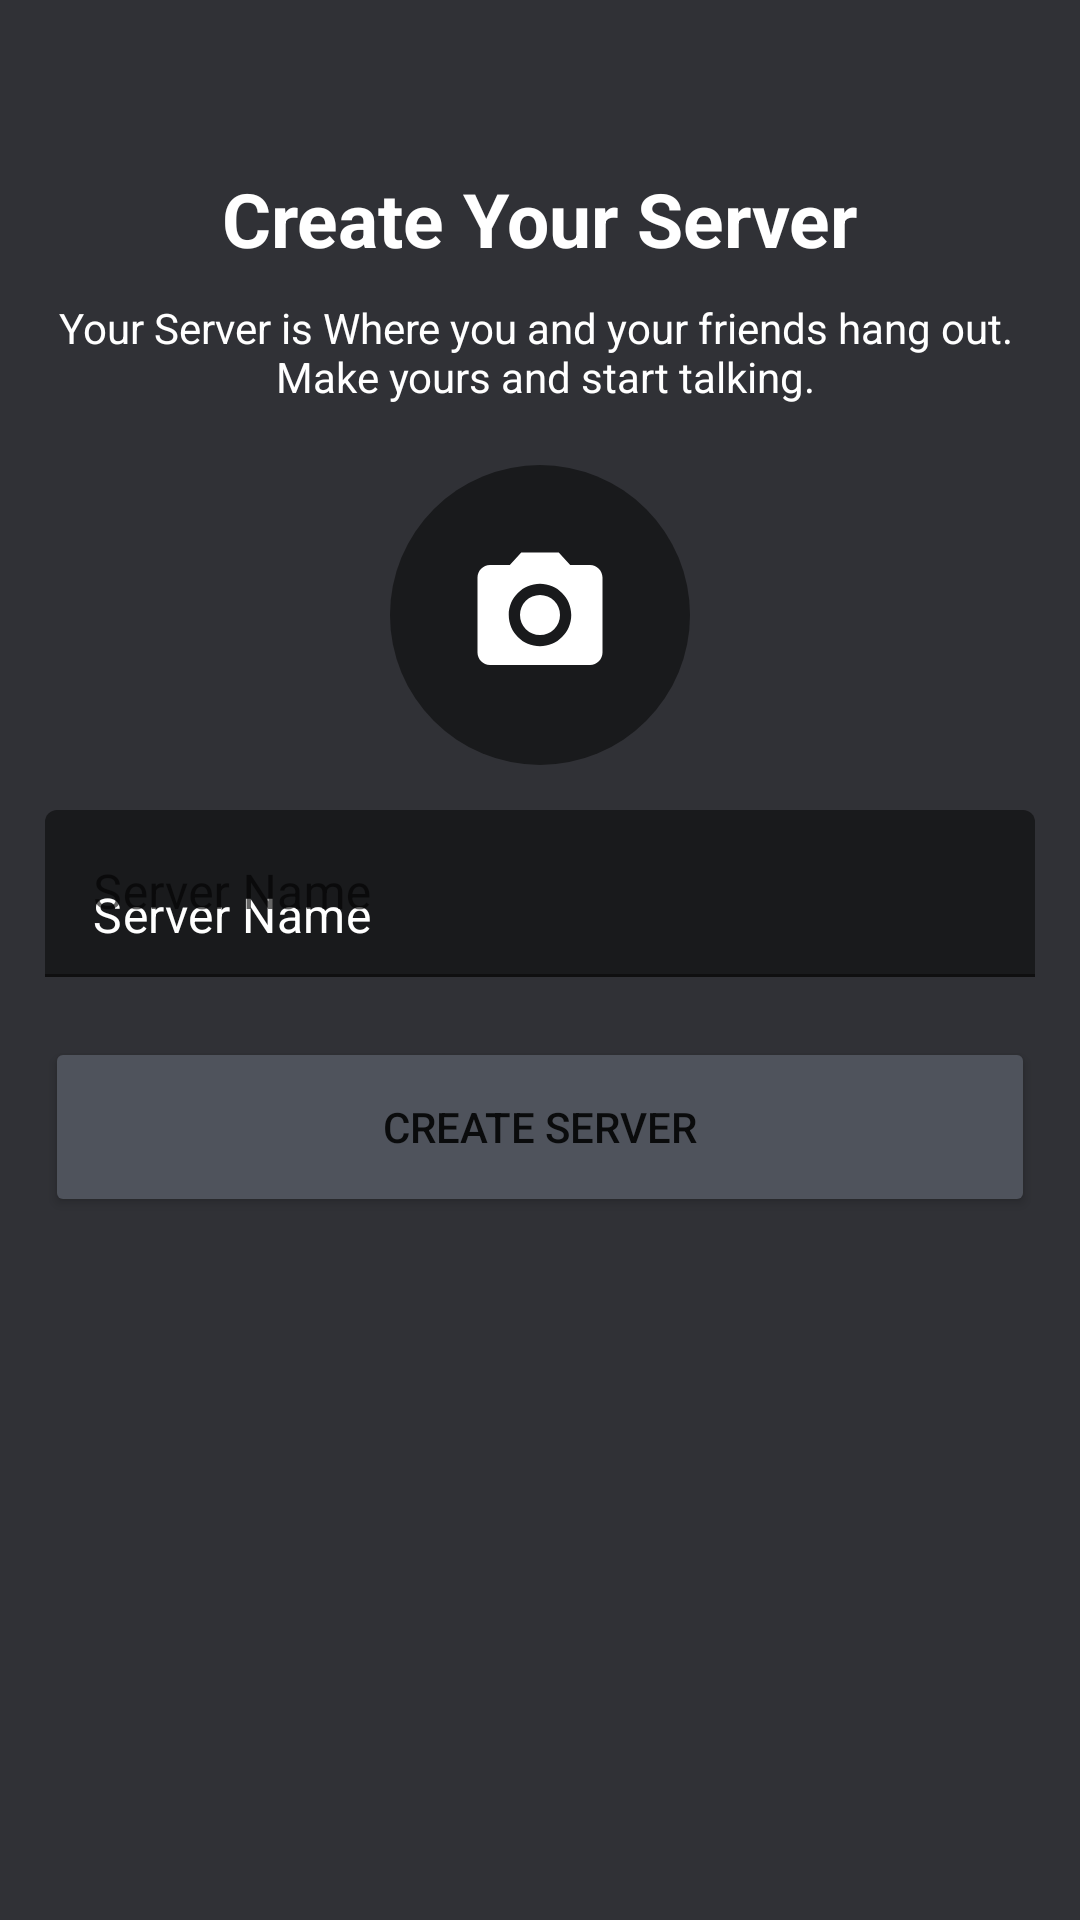

Named icons in this screenshot (1080x1920) and their centers, [x,y]:
camera: [540,615]
